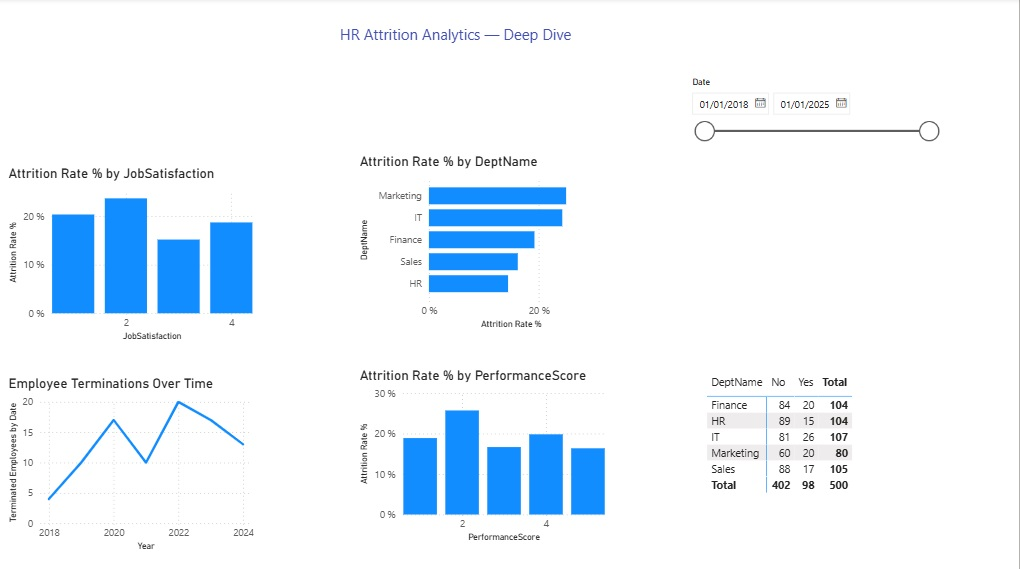

The dashboard page shown, as its layout file describes it:
{"tool":"powerbi","page":{"name":"Deep Dive","canvas":[1280,720],"ordinal":1},"visuals":[{"type":"textbox","box":[413,28.8,322.5,54.9],"z":0},{"type":"clusteredColumnChart","fields":{"Category":["hr_employees.JobSatisfaction"],"Y":["hr_employees.Attrition Rate %"]},"box":[9.6,209.9,315.6,225],"z":1000},{"type":"barChart","fields":{"Category":["hr_departments.DeptName"],"Y":["hr_employees.Attrition Rate %"]},"box":[448.7,194.9,317,225],"z":2000},{"type":"lineChart","title":"Employee Terminations Over Time","fields":{"Category":["calendar.Date.Variation.Date Hierarchy.Year","calendar.Date.Variation.Date Hierarchy.Quarter","calendar.Date.Variation.Date Hierarchy.Month","calendar.Date.Variation.Date Hierarchy.Day"],"Y":["hr_employees.Terminated Employees by Date"]},"box":[9.6,472,317,225],"z":3000},{"type":"clusteredColumnChart","fields":{"Category":["hr_employees.PerformanceScore"],"Y":["hr_employees.Attrition Rate %"]},"box":[448.7,461.1,317,225],"z":4000},{"type":"pivotTable","fields":{"Rows":["hr_departments.DeptName"],"Columns":["hr_employees.Attrition"],"Values":["hr_employees.Employee Count"]},"box":[883.7,465.2,330.7,225],"z":5000},{"type":"slicer","fields":{"Values":["calendar.Date"]},"box":[857.6,93.3,330.7,144.1],"z":6000}]}

Visuals, with their boxes in screenshot pixels (x1, y1, x2, y2), scaled from the page's 1280x720 canvas onto the 1020x569 screenshot:
textbox: (329,23,586,66)
clusteredColumnChart - hr_employees.JobSatisfaction x hr_employees.Attrition Rate %: (8,166,259,344)
barChart - hr_departments.DeptName x hr_employees.Attrition Rate %: (358,154,610,332)
"Employee Terminations Over Time" lineChart: (8,373,260,551)
clusteredColumnChart - hr_employees.PerformanceScore x hr_employees.Attrition Rate %: (358,364,610,542)
pivotTable - hr_departments.DeptName x hr_employees.Attrition: (704,368,968,545)
slicer - calendar.Date: (683,74,947,188)
